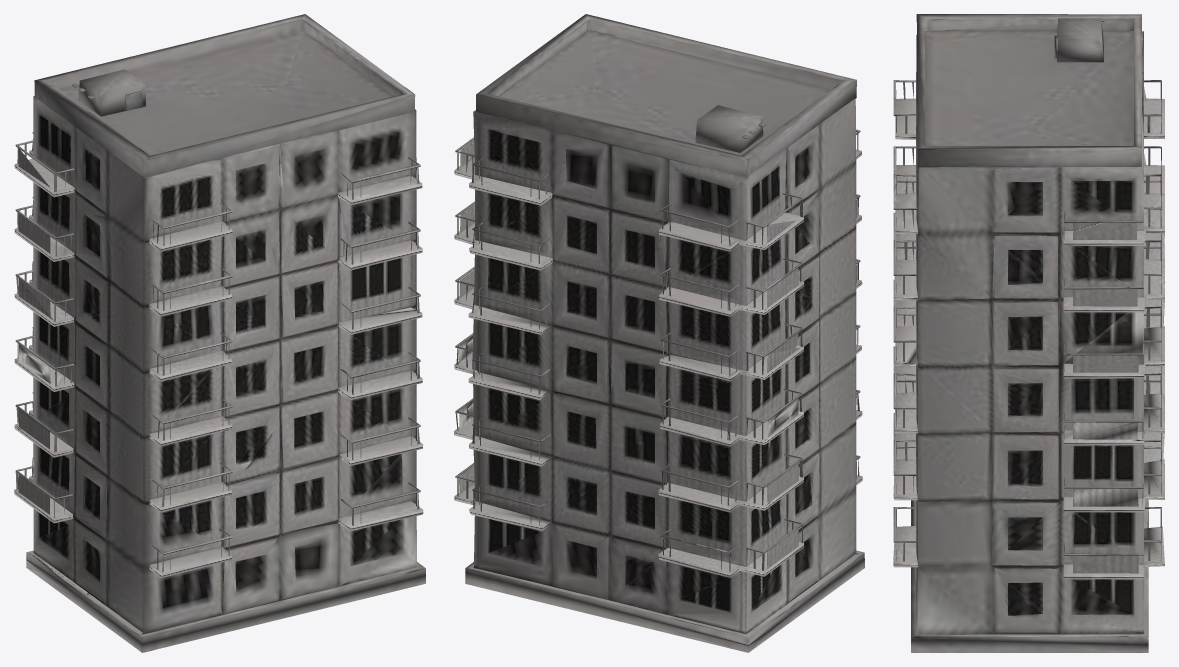
The model's file is 06-apartment-8-floors.glb.
The picture shows the model from 3 angles, left to right: view 1: azimuth 30°, elevation 25°; view 2: azimuth 150°, elevation 25°; view 3: azimuth 270°, elevation 25°; orthographic projection. The views are drawn at different scales.
Parts seen in each view (by area): view 1: geometry_0; view 2: geometry_0; view 3: geometry_0.
Part boxes in pixels (box(x1,y1,x2,y2)): geometry_0: box(14, 14, 425, 652); geometry_0: box(454, 14, 864, 652); geometry_0: box(893, 14, 1164, 652).
Size of the model in its own units: 0.6206 by 0.9502 by 0.4599.
1 material, 1 textured.
